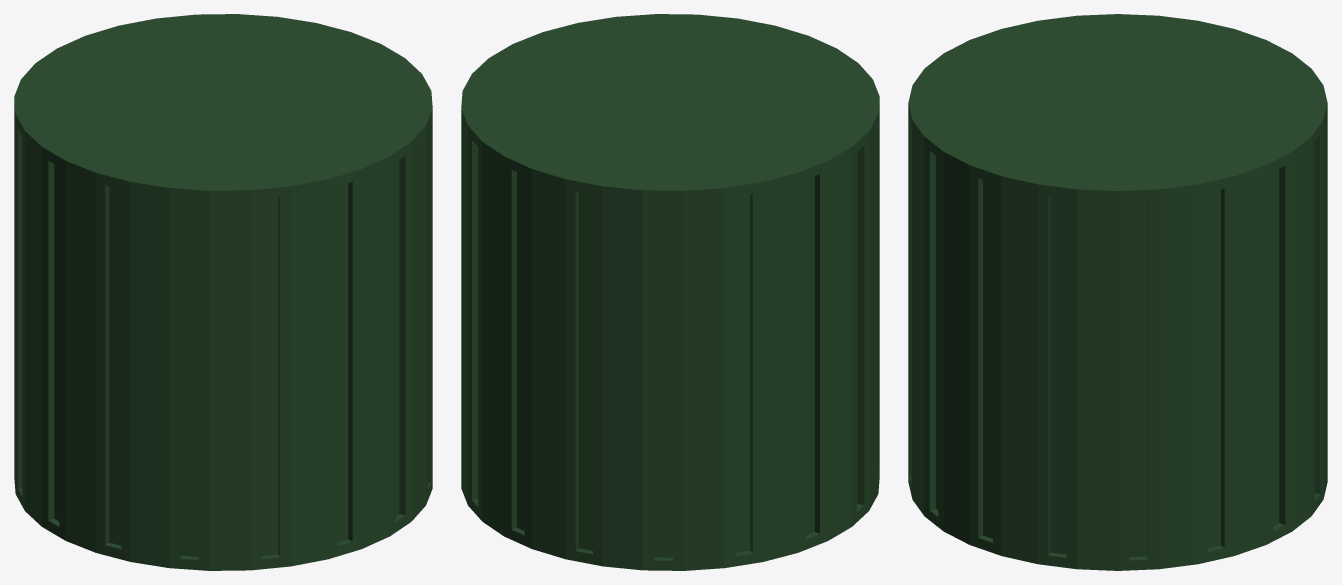
File: Trash.glb
3 views of the same model, side by side, from view 1: azimuth 30°, elevation 25°; view 2: azimuth 150°, elevation 25°; view 3: azimuth 270°, elevation 25° (orthographic).
Parts seen in each view (by area): view 1: Cylinder; view 2: Cylinder; view 3: Cylinder.
Boxes of the visible parts, x1,y1,x2,y2 form: Cylinder: (14,14,432,570); Cylinder: (461,14,879,570); Cylinder: (908,14,1327,570).
Size of the model in its own units: 2 by 2 by 2.
